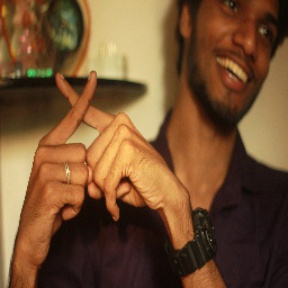X: (32, 61, 135, 159)
